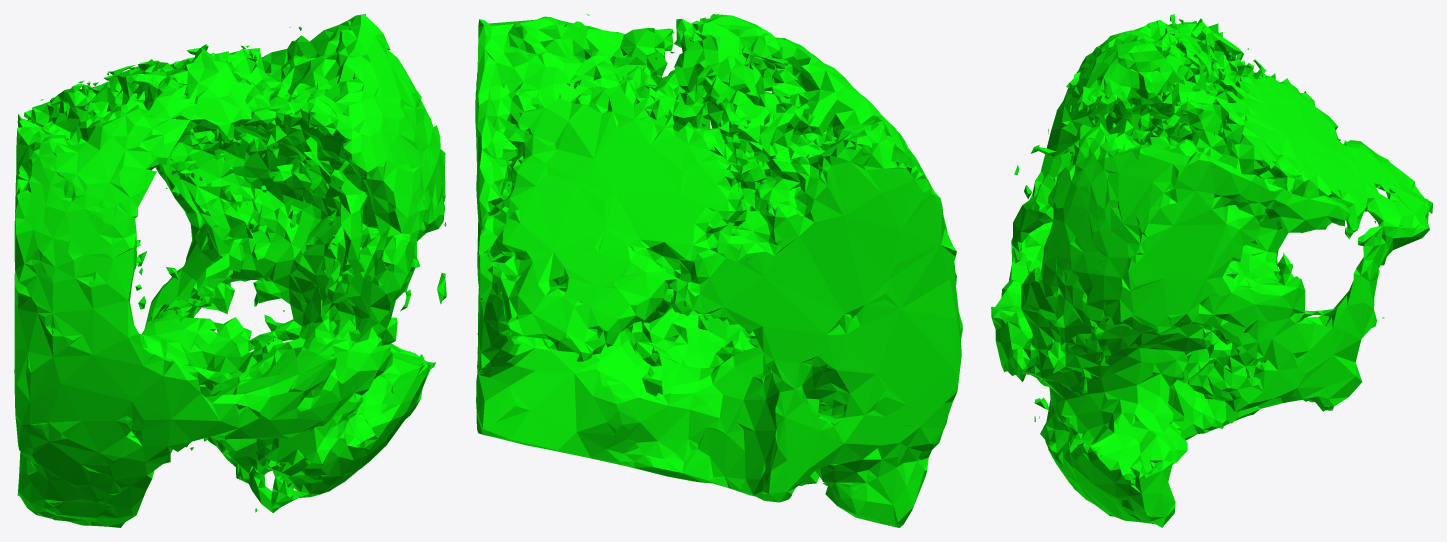
Rendered from B939XXXX-1_base_40.obj.
3 views of the same model, side by side, from view 1: azimuth 30°, elevation 25°; view 2: azimuth 150°, elevation 25°; view 3: azimuth 270°, elevation 25° (orthographic). The views are drawn at different scales.
Visible parts, largest first — view 1: 40_base; view 2: 40_base; view 3: 40_base.
Part boxes in pixels (x1,y1,x2,y2): 40_base: [14, 14, 446, 527]; 40_base: [475, 14, 962, 527]; 40_base: [991, 14, 1432, 527].
Size of the model in its own units: 217 by 213 by 202.
